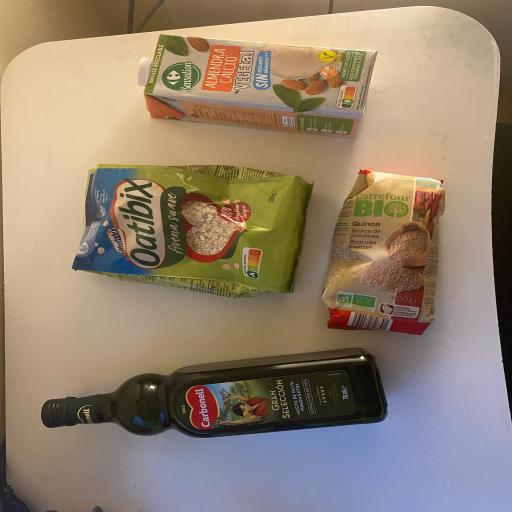almond_milk: (136, 33, 378, 143)
oats: (68, 162, 311, 301)
olive_oil: (38, 348, 390, 440)
quinoa: (322, 168, 446, 338)
